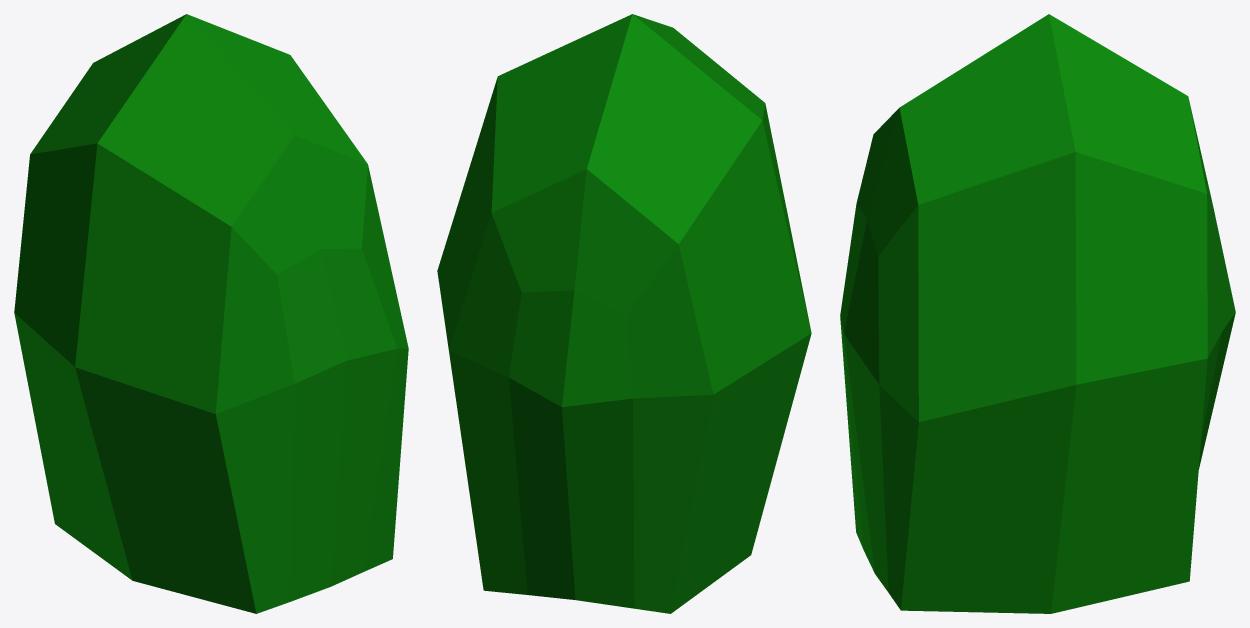
The model's file is Bush2.fbx.
3 views of the same model, side by side, from view 1: azimuth 30°, elevation 25°; view 2: azimuth 150°, elevation 25°; view 3: azimuth 270°, elevation 25° (orthographic). The views are drawn at different scales.
Parts seen in each view (by area): view 1: Bush2; view 2: Bush2; view 3: Bush2.
Part boxes in pixels (x1,y1,x2,y2): Bush2: (14, 14, 408, 613); Bush2: (437, 14, 811, 613); Bush2: (840, 14, 1235, 613).
Size of the model in its own units: 1735 by 2740 by 1851.
